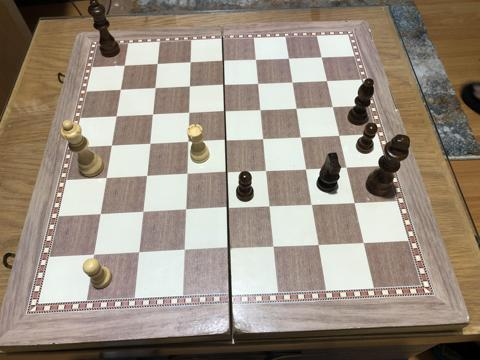xcorner: (152, 58, 164, 71), (314, 239, 327, 251), (316, 51, 328, 63), (283, 52, 295, 64), (251, 54, 263, 66), (218, 55, 230, 67), (185, 57, 197, 69), (119, 60, 131, 72), (322, 75, 334, 87), (287, 76, 299, 88), (253, 78, 265, 90), (219, 79, 231, 91), (184, 81, 196, 93), (149, 83, 161, 95), (115, 84, 127, 96), (328, 101, 340, 113), (292, 102, 304, 114), (256, 104, 268, 116), (220, 106, 232, 118), (183, 108, 195, 120), (147, 109, 159, 121), (111, 111, 123, 123), (334, 129, 346, 141), (297, 131, 309, 143), (259, 133, 271, 145), (221, 135, 233, 147), (183, 137, 195, 149), (144, 139, 156, 151), (106, 140, 118, 152), (342, 161, 354, 173), (302, 163, 314, 175), (262, 165, 274, 177), (222, 167, 234, 179), (182, 169, 194, 181), (141, 171, 153, 183), (101, 173, 113, 185), (350, 197, 362, 209), (308, 199, 320, 211), (266, 201, 278, 213), (223, 203, 235, 215), (181, 205, 193, 217), (138, 207, 150, 219), (95, 210, 107, 222), (359, 237, 371, 249), (270, 241, 282, 253), (225, 244, 237, 256), (180, 246, 192, 258), (134, 248, 146, 260), (89, 251, 101, 263)
